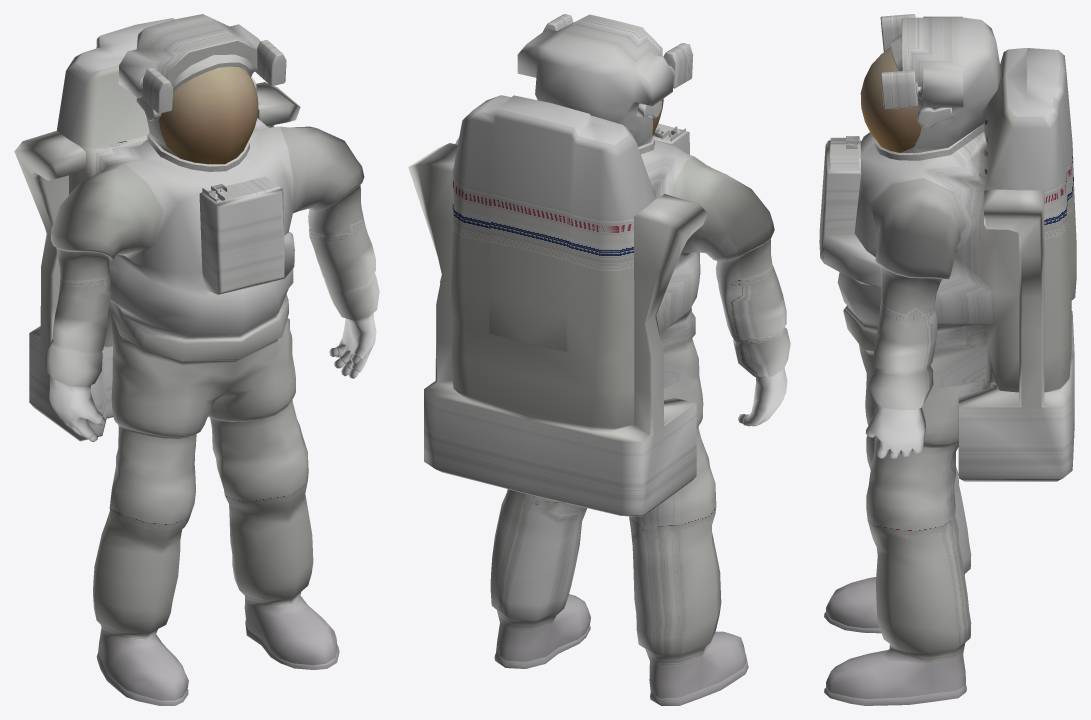
Rendered from astronaut.glb.
3 renders of one model, left to right at view 1: azimuth 30°, elevation 25°; view 2: azimuth 150°, elevation 25°; view 3: azimuth 270°, elevation 25°, orthographic. The views are drawn at different scales.
Parts seen in each view (by area): view 1: astronaut1; view 2: astronaut1; view 3: astronaut1.
Part boxes in pixels (box(x1,y1,x2,y2)): astronaut1: box(14, 14, 379, 705); astronaut1: box(408, 14, 790, 705); astronaut1: box(819, 14, 1076, 705).
Size of the model in its own units: 41.11 by 74.26 by 27.6.
Materials: 2 (2 with a texture image).
